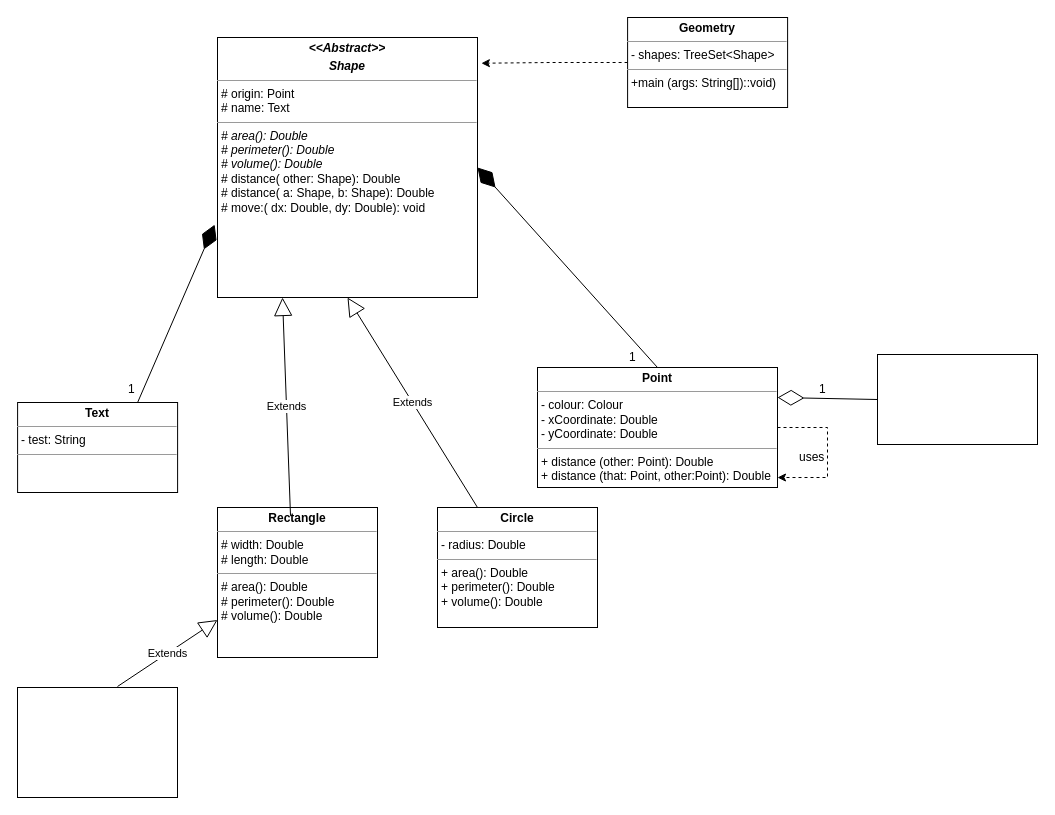
Some shapes in this 1055 by 815 pixel diagram are drawn without their labels. Here are the shapes that lost their labels. From the top down, the box of each, then its label:
(876, 354, 1038, 444): Colour - colour: String
(16, 686, 178, 798): Prism - height: Double + area(): Double + volume(): Double
